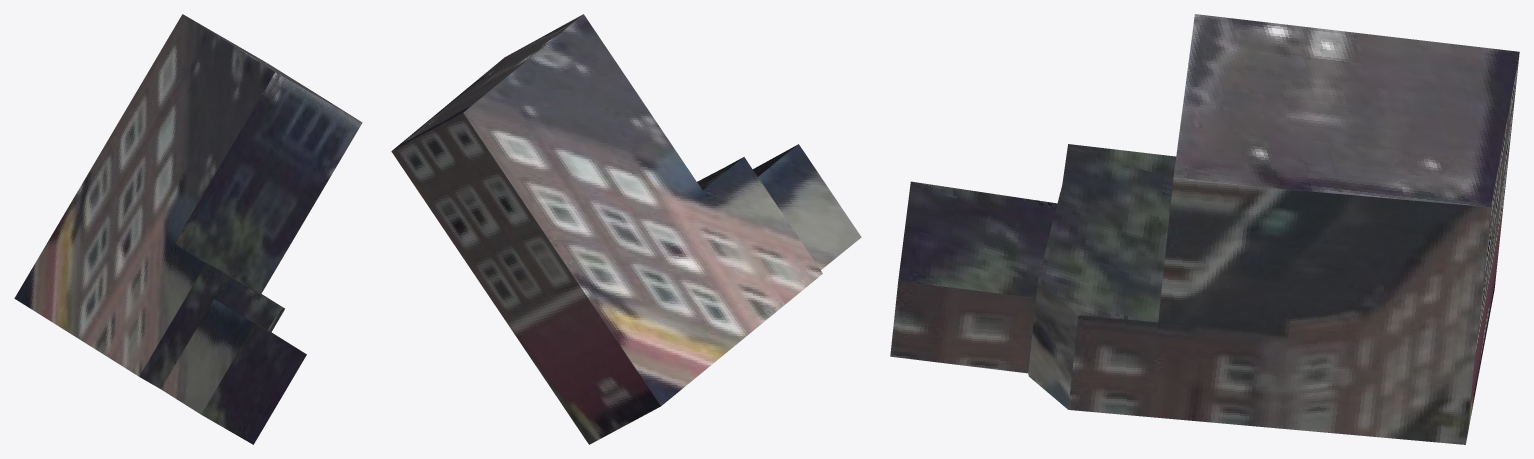
3 renders of one model, left to right at view 1: azimuth 30°, elevation 25°; view 2: azimuth 150°, elevation 25°; view 3: azimuth 270°, elevation 25°, orthographic. The views are drawn at different scales.
Visible parts, largest first — view 1: BAG_0599100000638395; view 2: BAG_0599100000638395; view 3: BAG_0599100000638395.
Boxes of the visible parts, left/top/right/bottom form: BAG_0599100000638395: left=14, top=14, right=362, bottom=444; BAG_0599100000638395: left=391, top=14, right=861, bottom=444; BAG_0599100000638395: left=890, top=14, right=1519, bottom=444.
Bounding box in the file's own units: 14.38 × 16.39 × 18.66.
Materials: 2 (1 with a texture image).
